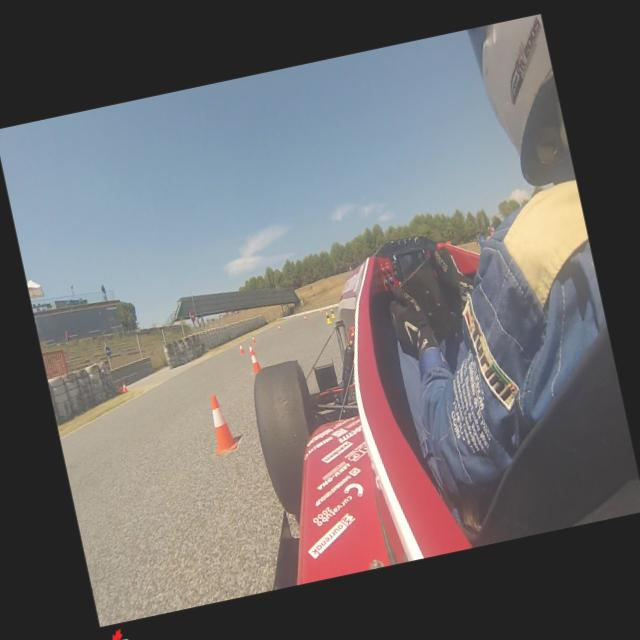orange_cone: (202, 390, 240, 455), (248, 348, 262, 374), (247, 342, 255, 360), (120, 380, 128, 393), (238, 342, 245, 354), (276, 323, 282, 331), (303, 314, 307, 322), (252, 335, 256, 342), (320, 307, 322, 314)
yellow_cone: (324, 311, 332, 324), (329, 308, 336, 318)
